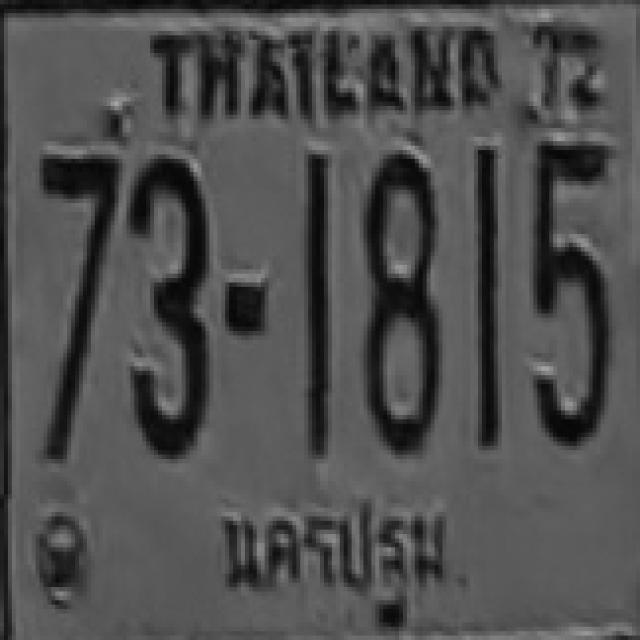0: (530, 238, 608, 442)
1: (302, 152, 326, 364), (476, 146, 500, 353), (302, 150, 326, 353), (476, 146, 500, 336)
3: (127, 172, 206, 455), (127, 214, 206, 452)
7: (42, 152, 116, 316)
NakhonPathom: (203, 490, 464, 628)
